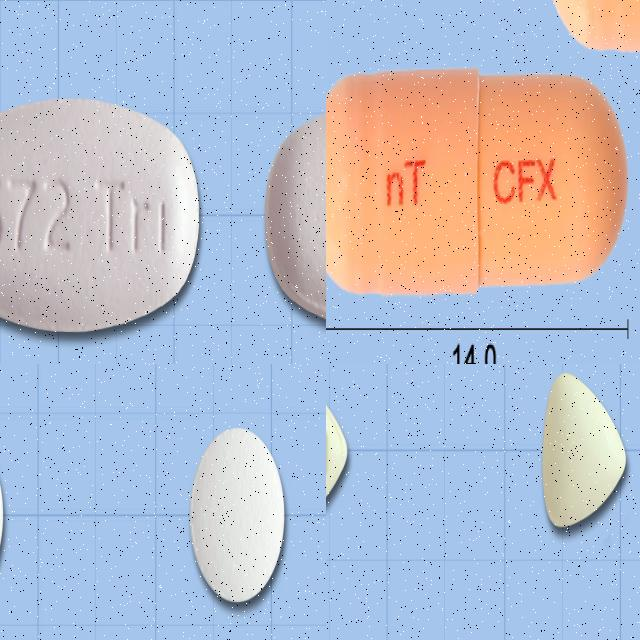Leflunomide: (540, 372, 626, 528), (326, 370, 348, 529)
NT-fixime Cap: (326, 67, 628, 296)
Procin Tab: (191, 427, 284, 602)
Truvada Tab: (0, 99, 200, 330), (265, 97, 326, 333)
